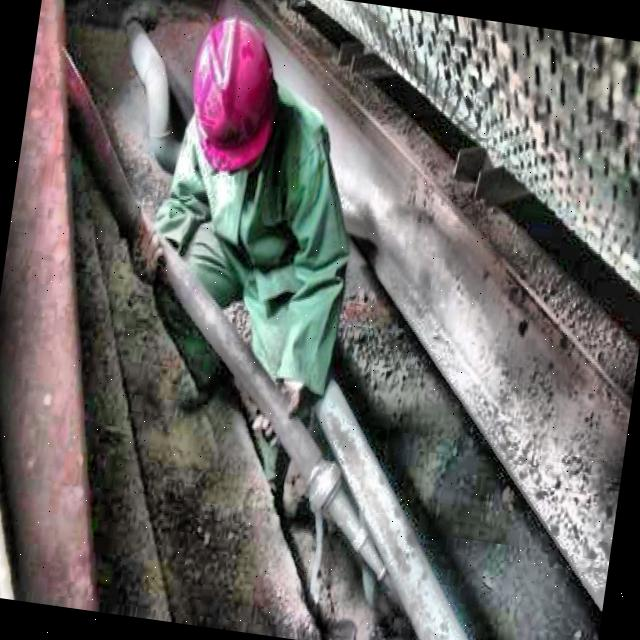helmet: (169, 0, 295, 185)
